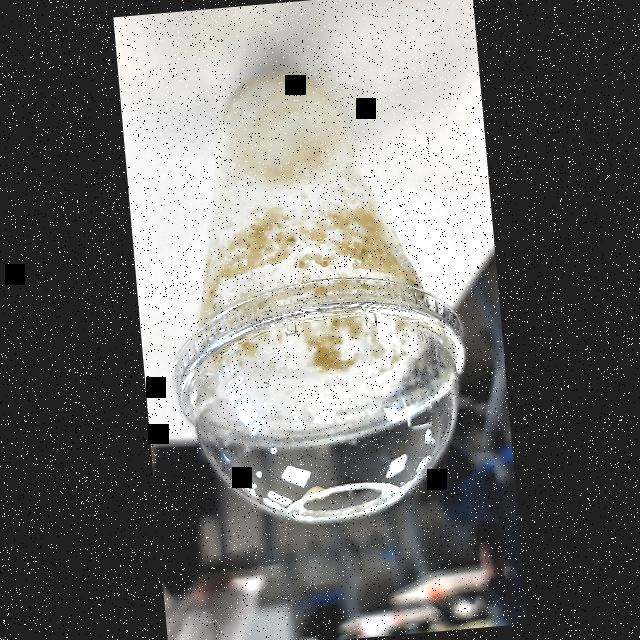plastic_cup: (146, 58, 478, 536)
plastic_cup_lid: (170, 268, 480, 532)
